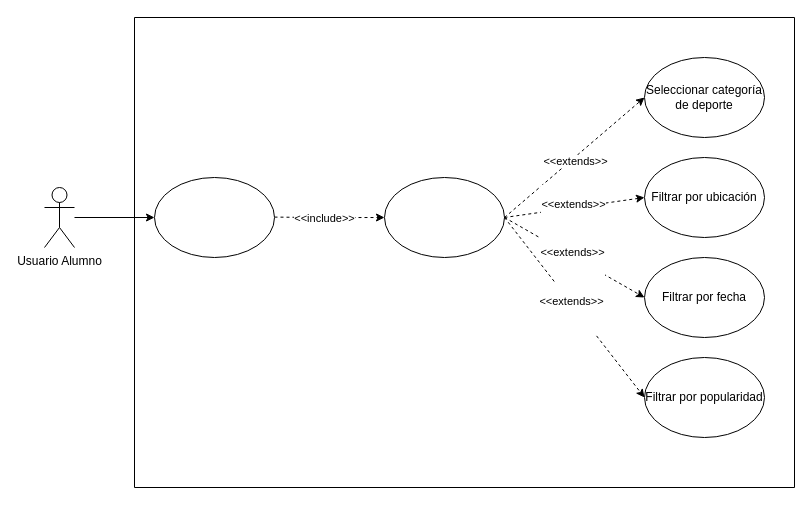
Image size: 812x505. Some labels were removed from this diagram. The shapes that lost their labels are listed below. From the top down, each one's box as (x1, y1, x2, y2) in pixels, then its label:
(154, 176, 274, 258): Buscar deportes o eventos
(384, 176, 504, 258): Aplicar filtros
